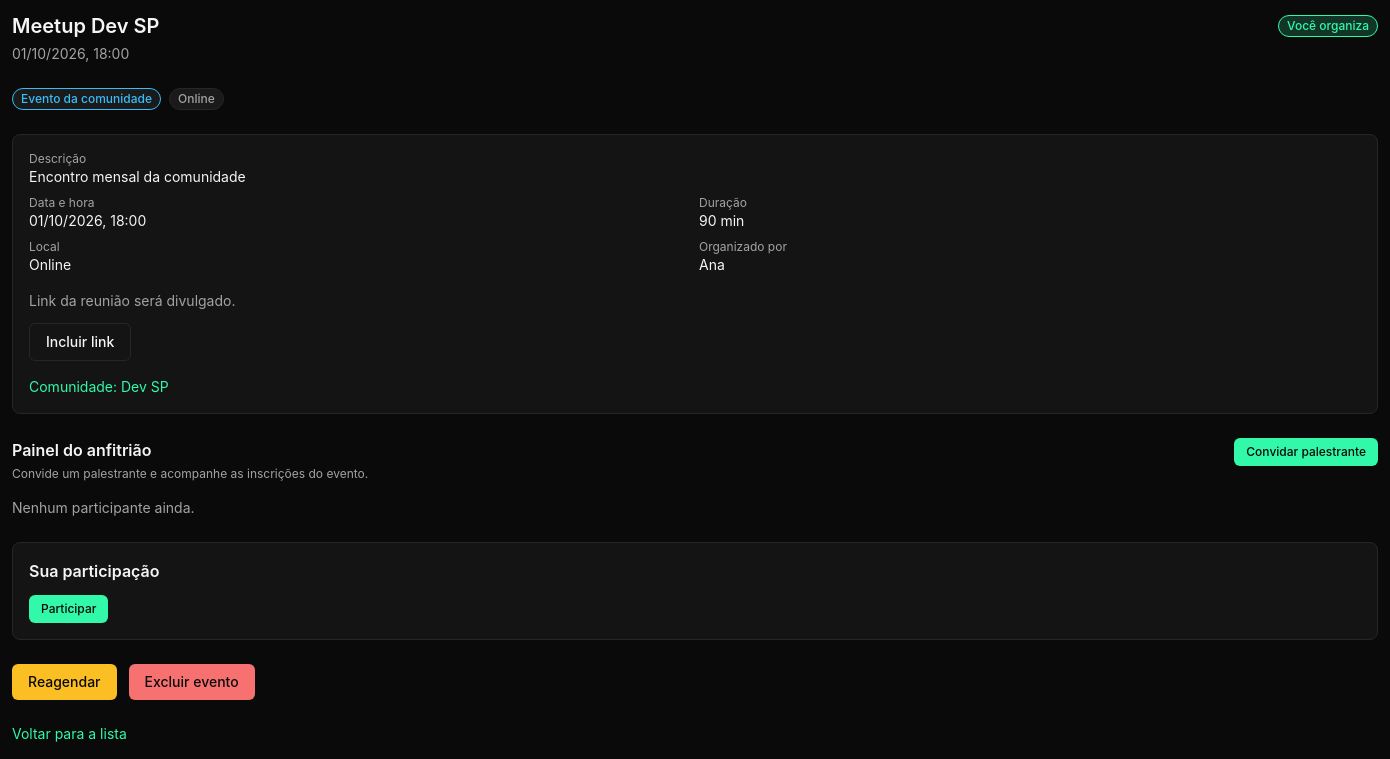
it: EventDetailPage › owner inclui o link depois da criação
Step 1. Click the button "Incluir link" → (80, 342), box [29,323,131,361]
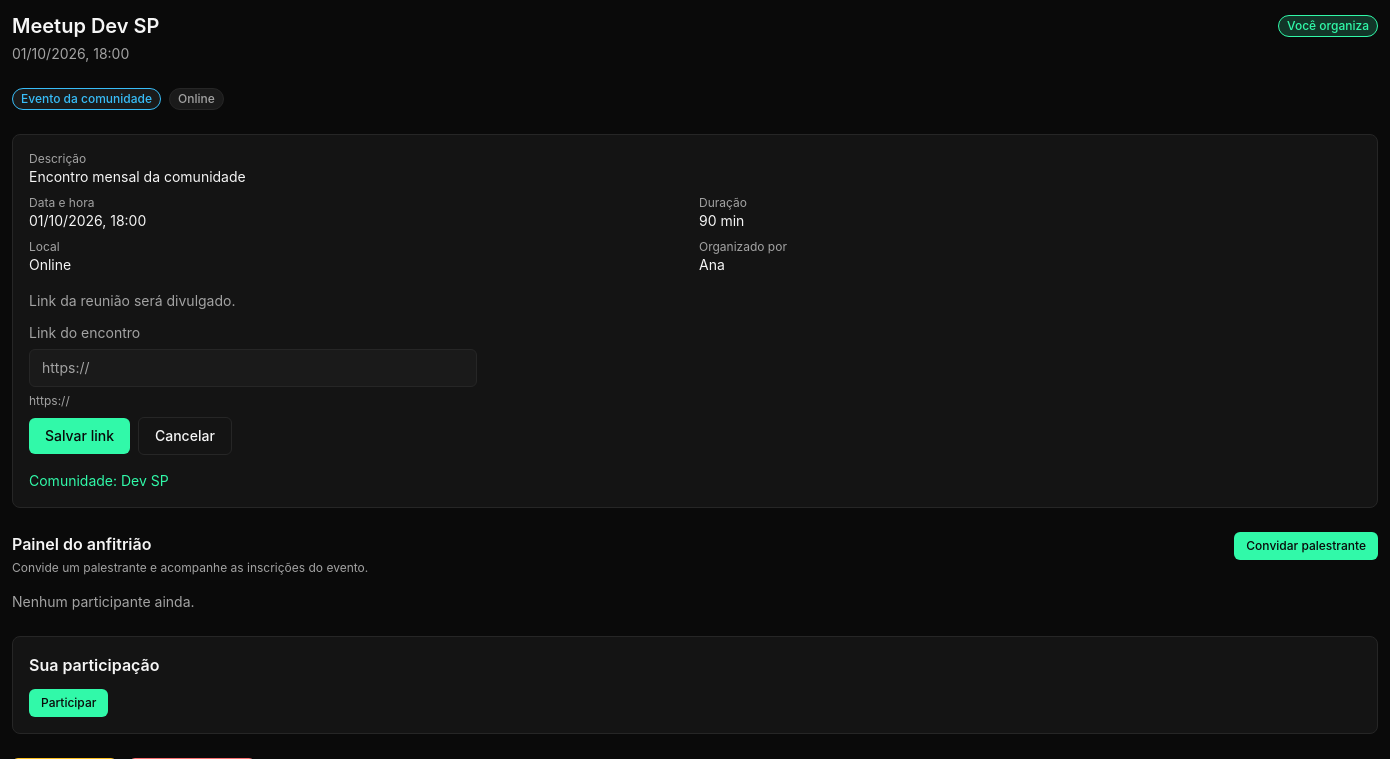
Step 2. Type "https://meet.example.com/depois" into the field labelled "Link do encontro" → (253, 368), box [29,349,477,387]
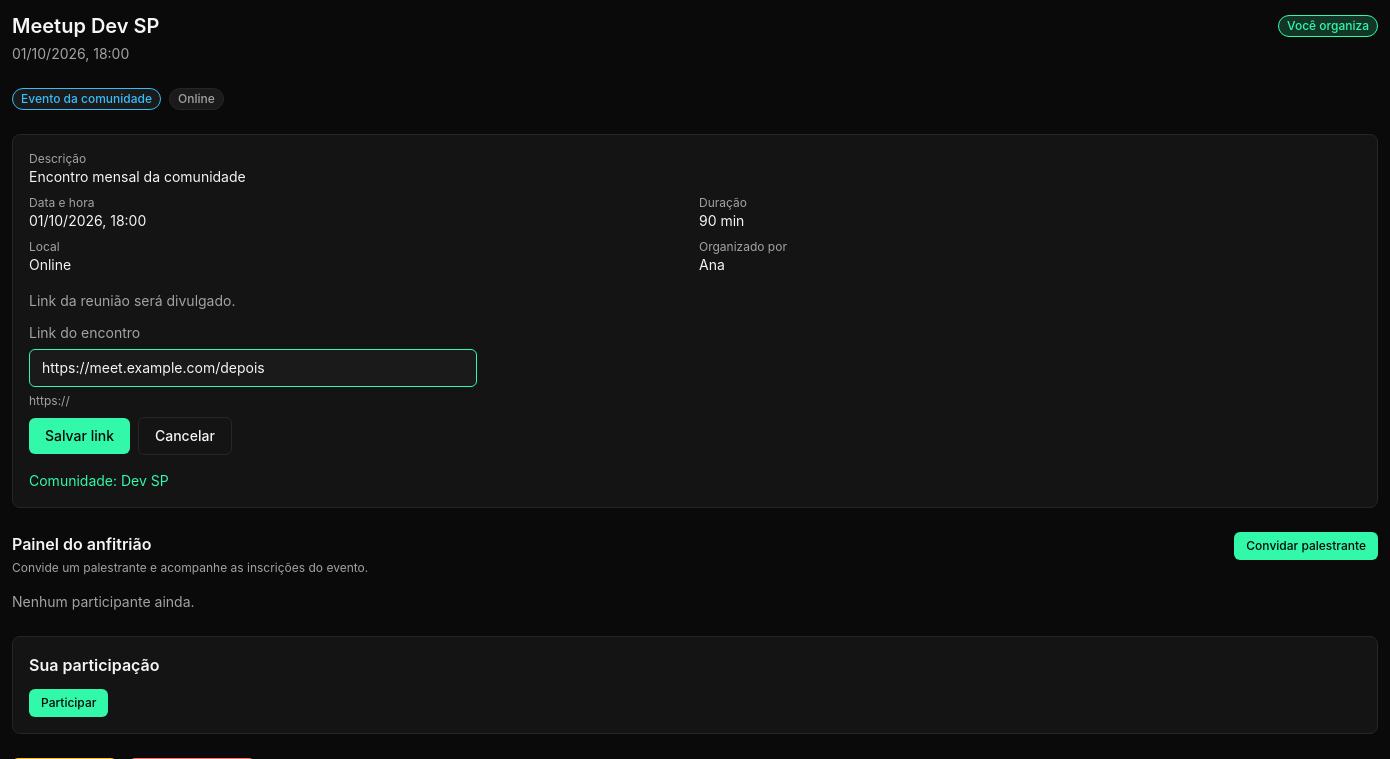
Step 3. Click the button "Salvar link" → (80, 436), box [29,418,130,454]
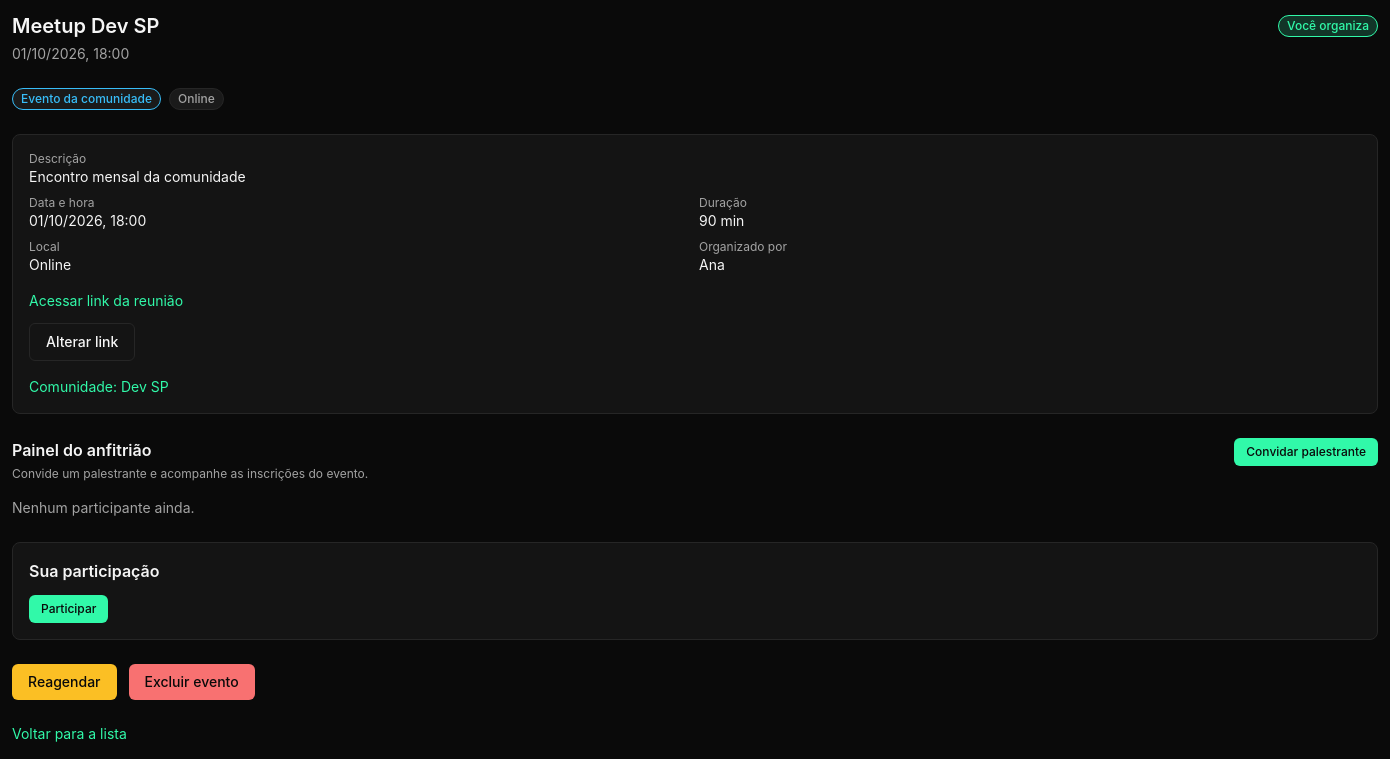
Expected: the button "Alterar link" is shown, [29,323,135,361]
